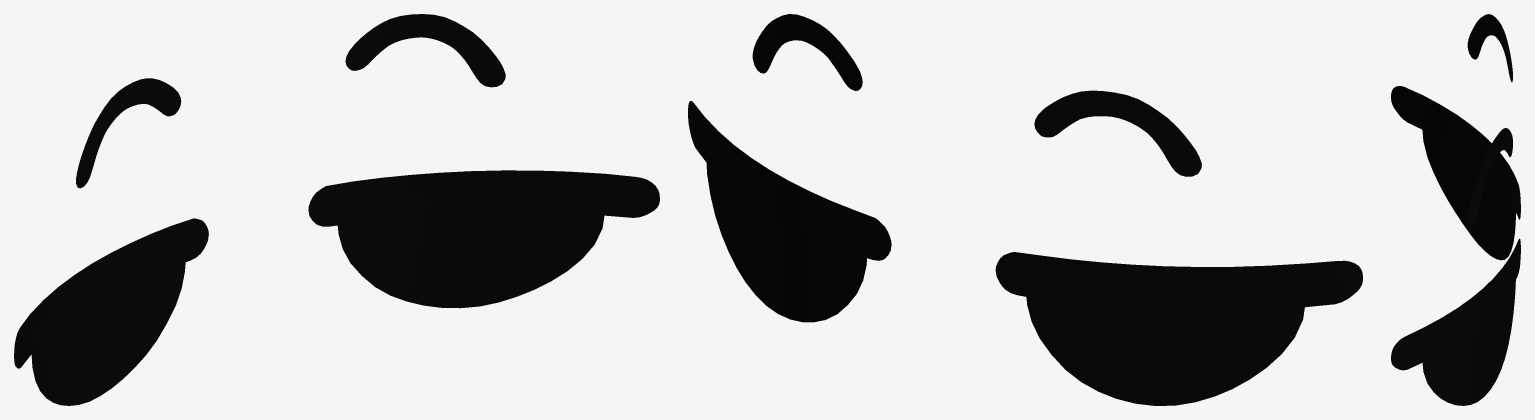
File: 12-Bored-eyes.glb
3 renders of one model, left to right at view 1: azimuth 30°, elevation 25°; view 2: azimuth 150°, elevation 25°; view 3: azimuth 270°, elevation 25°, orthographic. The views are drawn at different scales.
Visible parts, largest first — view 1: 12-Bored-eyes; view 2: 12-Bored-eyes; view 3: 12-Bored-eyes.
Part boxes in pixels (<box>): 12-Bored-eyes: <box>14,14,659,405</box>; 12-Bored-eyes: <box>688,14,1362,405</box>; 12-Bored-eyes: <box>1391,14,1520,405</box>.
Bounding box in the file's own units: 0.8658 × 0.3812 × 0.1819.
Materials: 6 (6 with a texture image).
